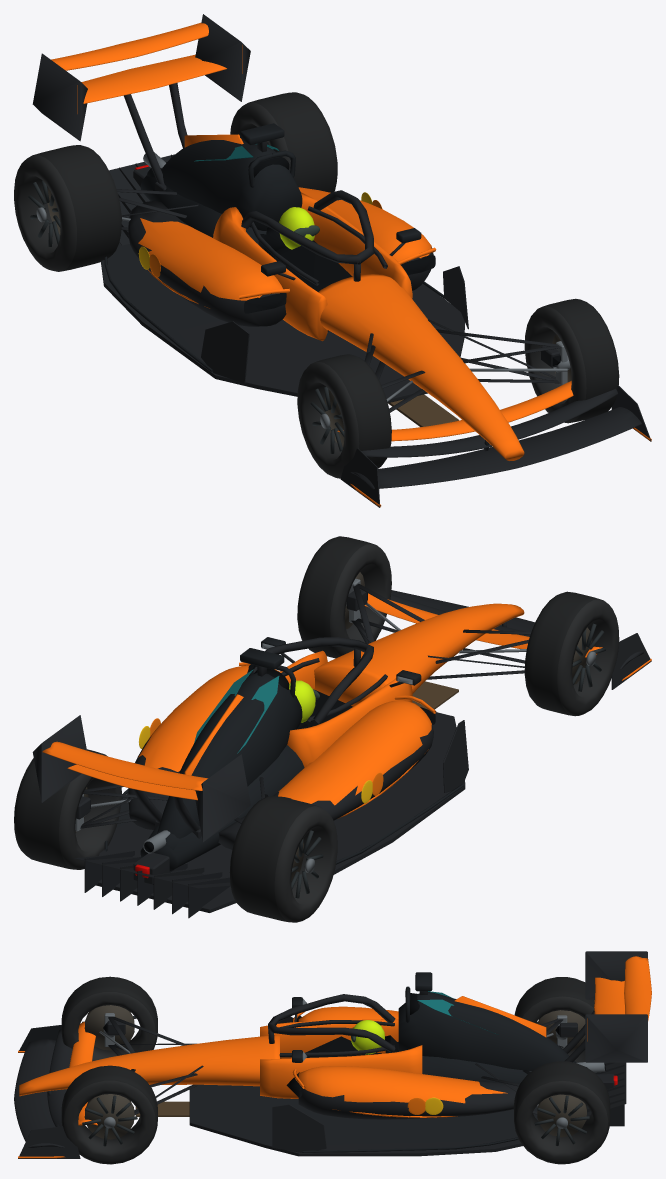
The model's file is mcl40-lod2.glb.
The picture shows the model from 3 angles, top to bottom: view 1: azimuth 30°, elevation 25°; view 2: azimuth 150°, elevation 25°; view 3: azimuth 270°, elevation 25°; orthographic projection. The views are drawn at different scales.
Visible parts, largest first — view 1: L2_Chassis, L2_Wheel_RL, L2_Wheel_FL, L2_Wheel_FR, L2_Wheel_RR; view 2: L2_Chassis, L2_Wheel_RL, L2_Wheel_FL, L2_Wheel_RR, L2_Wheel_FR; view 3: L2_Chassis, L2_Wheel_RR, L2_Wheel_FR, L2_Wheel_FL, L2_Wheel_RL.
Boxes of the visible parts, x1,y1,x2,y2 form: L2_Chassis: [32, 14, 651, 507]; L2_Wheel_RL: [14, 145, 121, 271]; L2_Wheel_FL: [297, 354, 391, 478]; L2_Wheel_FR: [524, 298, 619, 423]; L2_Wheel_RR: [230, 92, 337, 192]; L2_Chassis: [32, 572, 651, 918]; L2_Wheel_RL: [229, 795, 337, 922]; L2_Wheel_FL: [524, 591, 619, 716]; L2_Wheel_RR: [14, 749, 121, 869]; L2_Wheel_FR: [297, 536, 391, 658]; L2_Chassis: [14, 951, 651, 1158]; L2_Wheel_RR: [513, 1061, 610, 1164]; L2_Wheel_FR: [61, 1065, 157, 1164]; L2_Wheel_FL: [61, 976, 157, 1061]; L2_Wheel_RL: [514, 977, 594, 1062].
Size of the model in its own units: 1.9 by 1.13 by 4.8.
